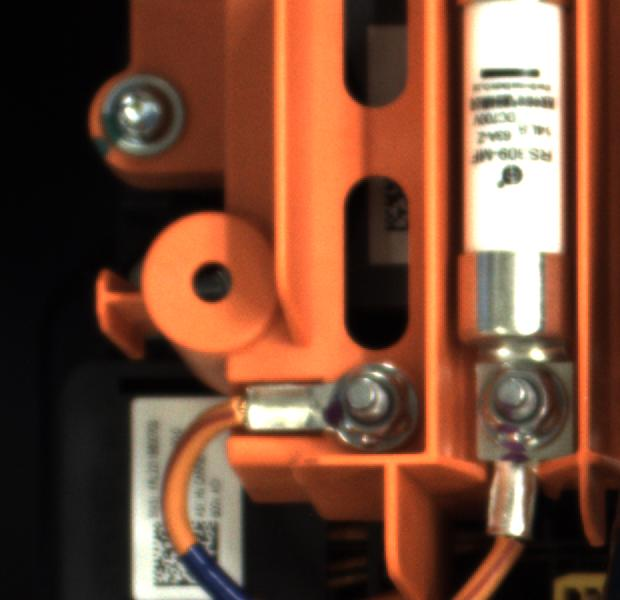screw_m: (93, 68, 204, 168)
screw_s: (314, 357, 421, 451), (473, 353, 566, 453)
